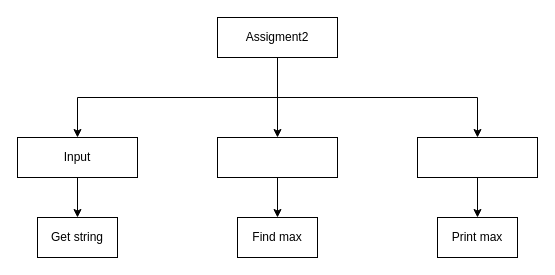
This 555x275 diagram has some shape labels left out. The centre of each missing label's shape, as x and y in pixels:
Output: point 477,157
Process: point 277,157
